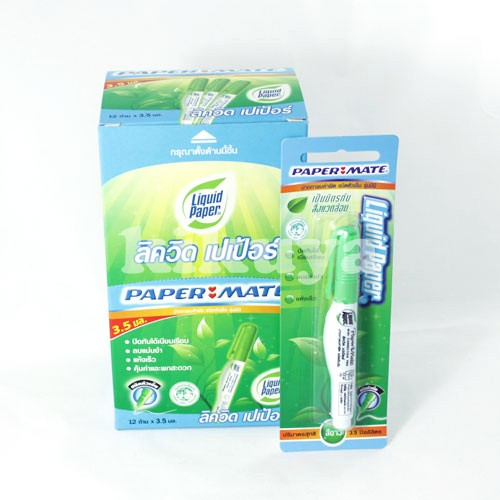Correction_fluid: (313, 218, 369, 440)
